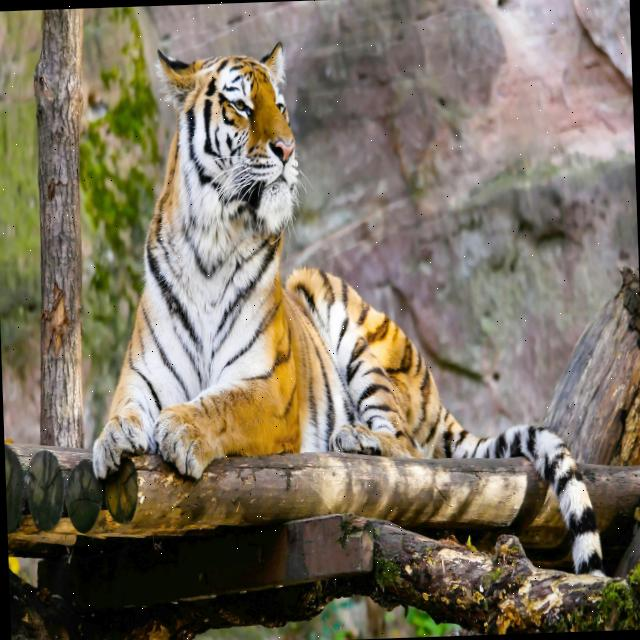Tiger: (82, 23, 604, 594)
